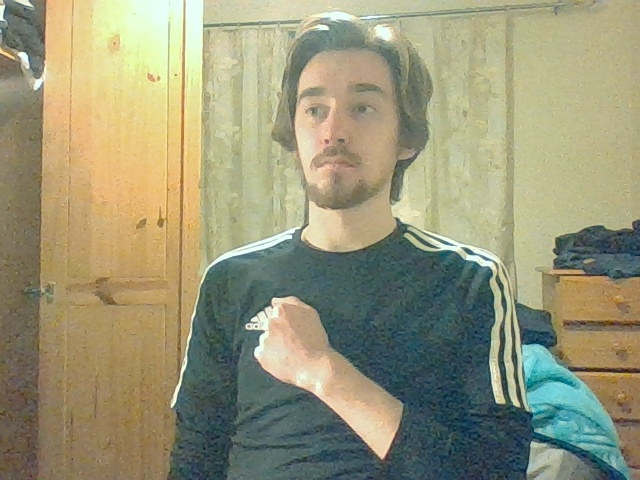my: (254, 296, 328, 375)
